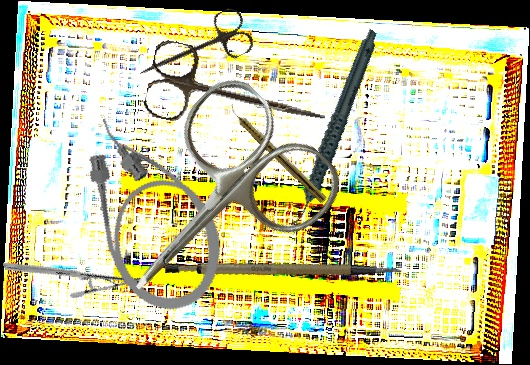Cannula: (67, 95, 239, 325)
Handpiece: (250, 27, 416, 230), (225, 103, 330, 204)
Iris Scissors: (74, 66, 353, 346), (141, 38, 335, 152), (131, 4, 257, 98)
Needle Holder: (2, 216, 144, 331)
Scalpel Handle: (162, 230, 405, 314)
